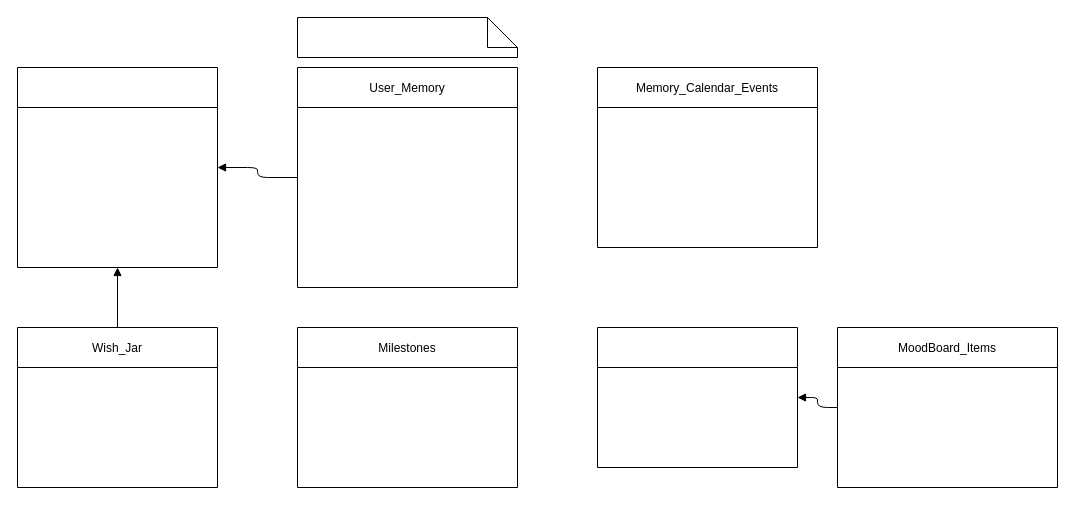
Image size: 1075x505. Some labels were removed from this diagram. Here are the shapes that lost their labels. From the top down, the centre of each, then its label:
point 407,37: Joy Jar = Memories where is_joy = true
point 117,167: Users
point 697,397: Mood_Board
